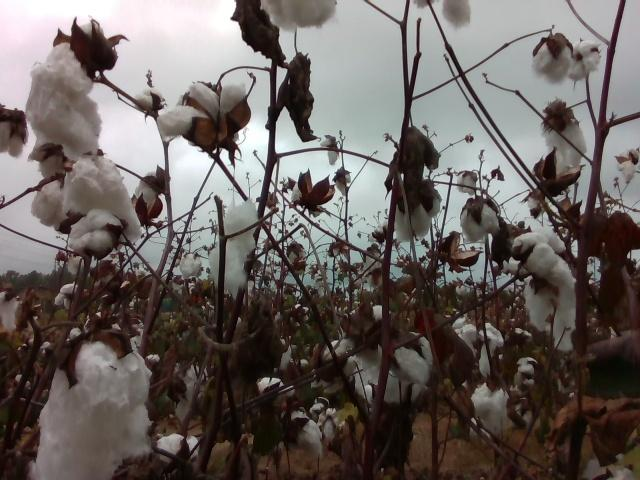cotton_ready: (31, 337, 152, 480), (26, 20, 102, 233), (511, 234, 579, 349), (61, 150, 143, 232), (347, 331, 429, 405), (158, 79, 249, 141), (207, 199, 259, 295), (451, 315, 506, 376), (259, 0, 339, 32), (392, 189, 443, 239), (65, 212, 124, 254), (541, 118, 588, 168), (459, 200, 503, 245), (471, 383, 509, 433), (531, 40, 572, 85), (288, 410, 324, 460), (567, 39, 605, 85), (0, 108, 29, 158), (156, 433, 201, 464), (134, 171, 163, 218), (318, 404, 343, 451), (259, 377, 296, 406), (441, 0, 471, 31), (134, 88, 165, 112), (0, 290, 18, 331), (515, 356, 536, 390), (180, 253, 202, 279)
